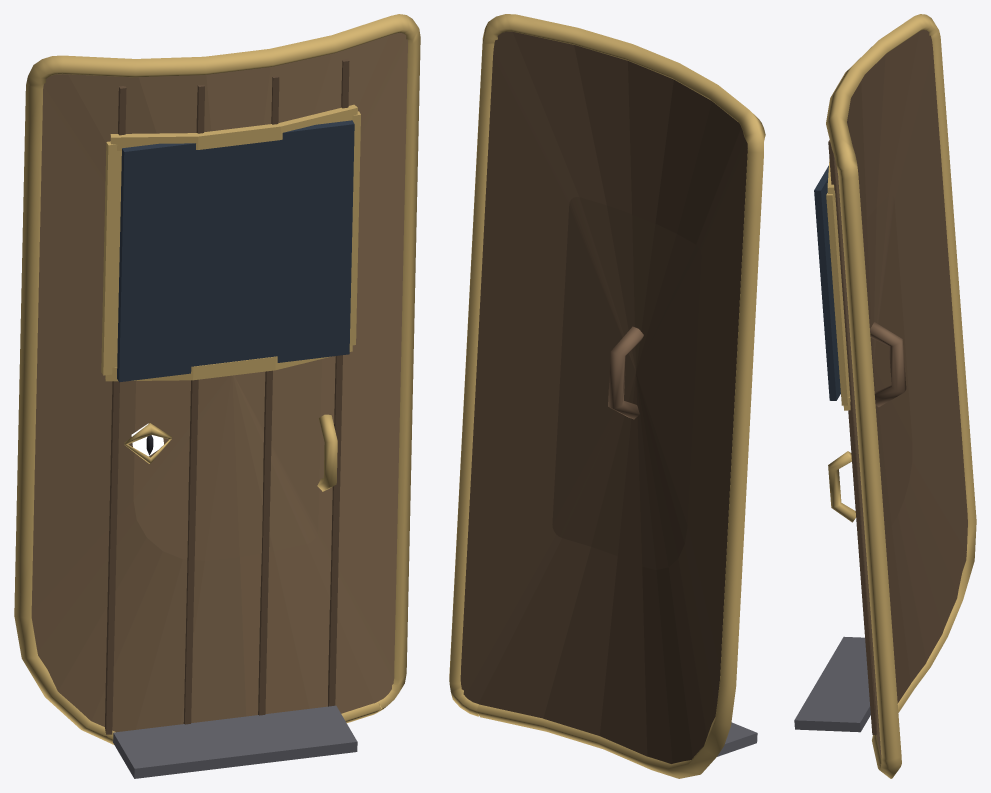
The model's file is shield-passengers-door.glb.
The picture shows the model from 3 angles, left to right: view 1: azimuth 30°, elevation 25°; view 2: azimuth 150°, elevation 25°; view 3: azimuth 270°, elevation 25°; orthographic projection. The views are drawn at different scales.
Parts seen in each view (by area): view 1: shield-passengers-door; view 2: shield-passengers-door; view 3: shield-passengers-door.
Boxes of the visible parts, <box> form: shield-passengers-door: <box>14,14,420,778</box>; shield-passengers-door: <box>449,14,765,778</box>; shield-passengers-door: <box>794,14,976,778</box>.
Bounding box in the file's own units: 1.01 × 1.96 × 0.5102.
